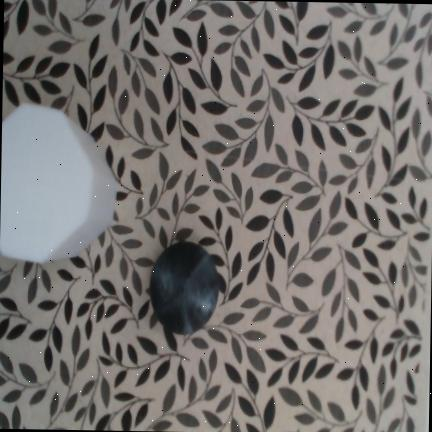Esfera: (150, 242, 220, 334)
Prisma_hexagonal: (0, 103, 116, 262)
